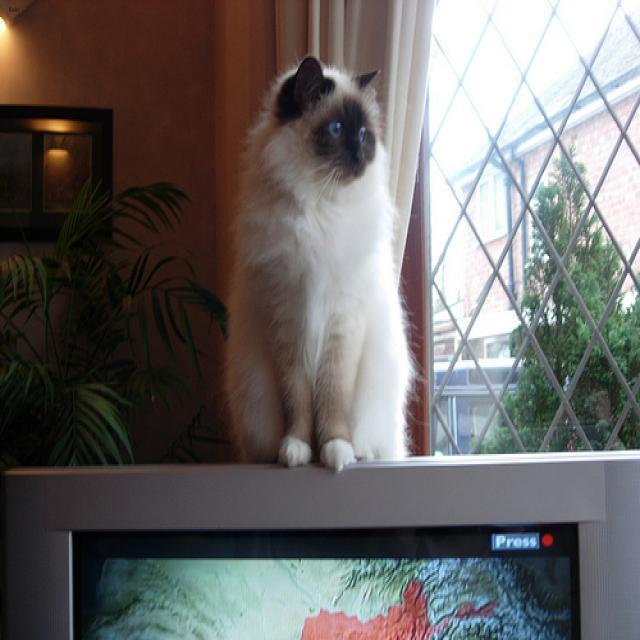Birman: (251, 54, 387, 264)
